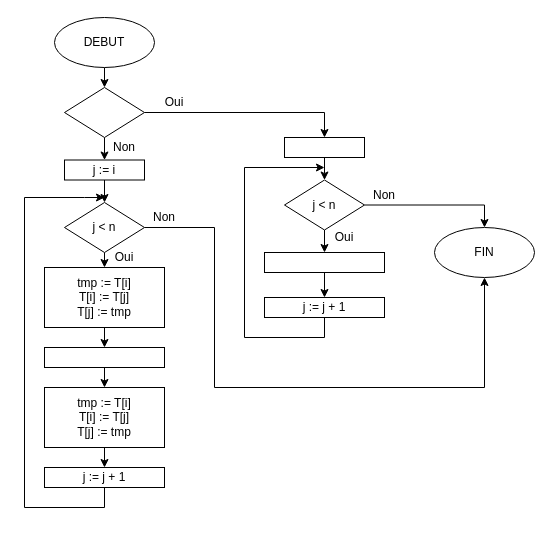
This 552x533 diagram has some shape labels left out. Here are the shapes that lost their labels. From the top down, the centre of each, then its label:
At point 104,112: "i = n-1".
At point 324,147: "j := 0".
At point 324,262: "ecrire(T[j])".
At point 104,357: "TRUC(i+1, n, T)".
